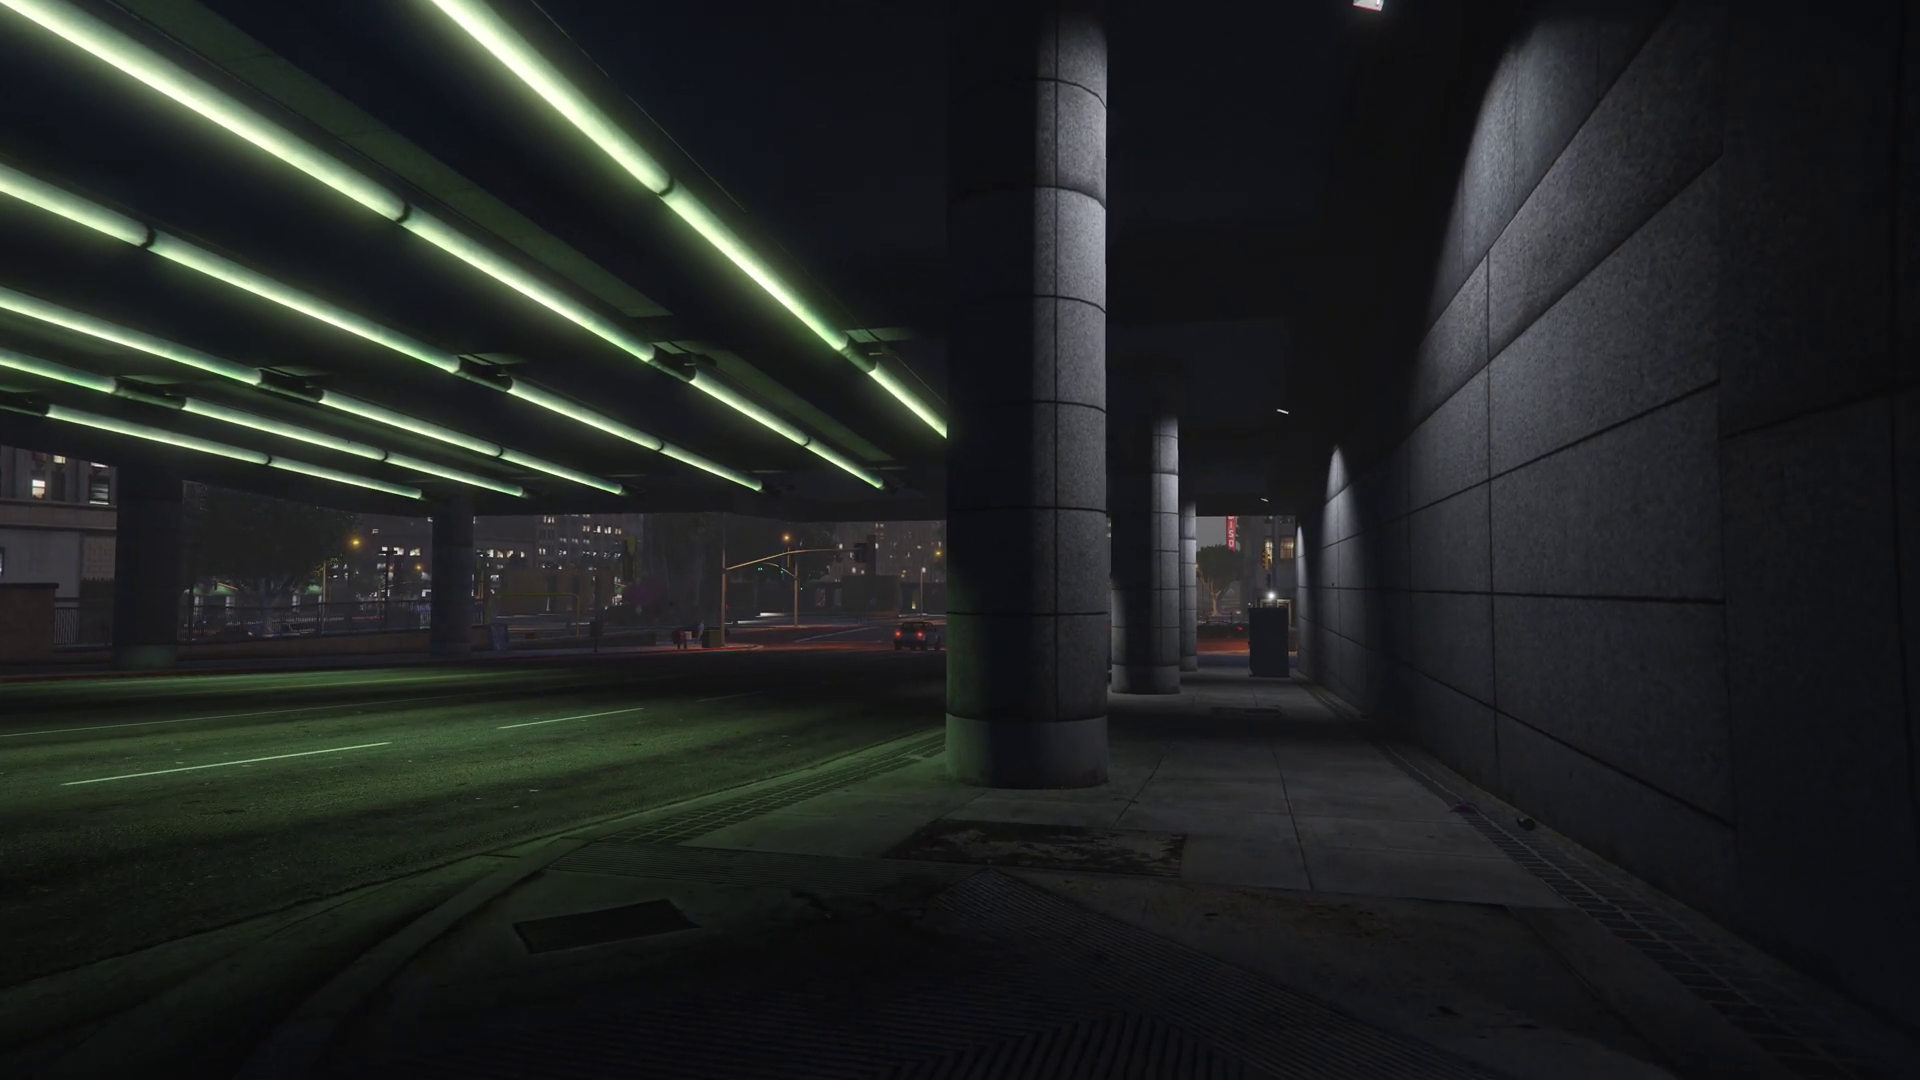car: (891, 620, 939, 650), (1197, 618, 1246, 641)
